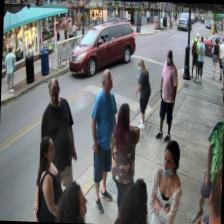person: (106, 101, 139, 224)
